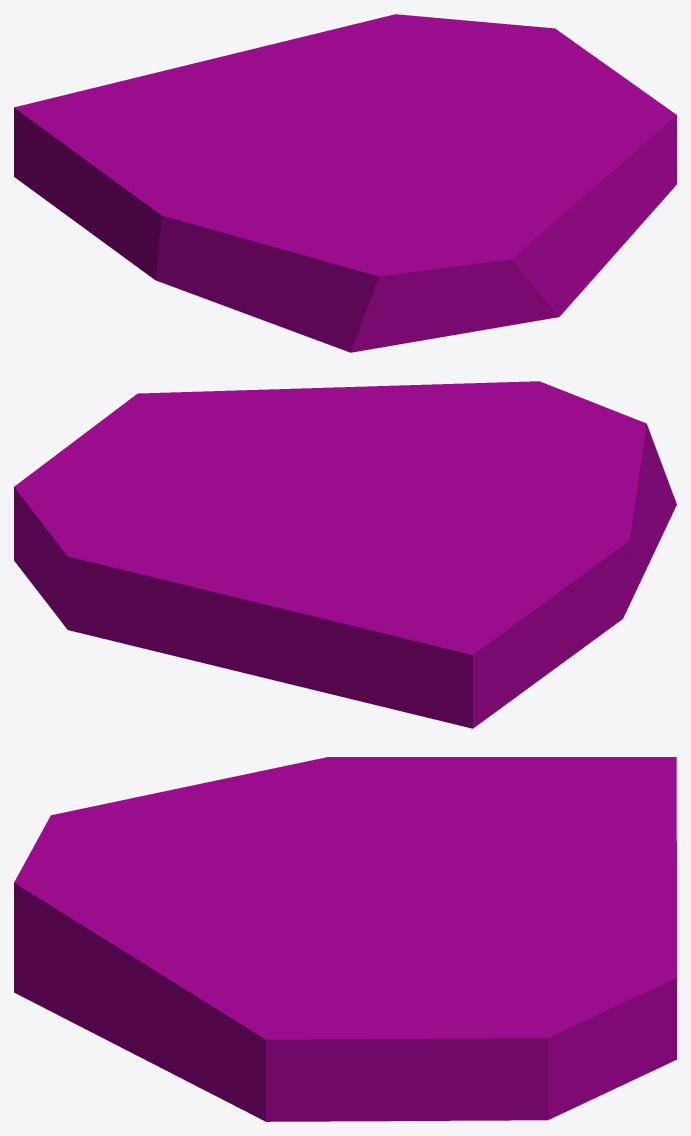
Rendered from Collider_Broken_Ceiling_003.fbx.
The picture shows the model from 3 angles, top to bottom: view 1: azimuth 30°, elevation 25°; view 2: azimuth 150°, elevation 25°; view 3: azimuth 270°, elevation 25°; orthographic projection. The views are drawn at different scales.
Visible parts, largest first — view 1: Collider_Broken_Ceiling_003; view 2: Collider_Broken_Ceiling_003; view 3: Collider_Broken_Ceiling_003.
Part boxes in pixels (box(x1,y1,x2,y2)): Collider_Broken_Ceiling_003: box(14, 14, 676, 352); Collider_Broken_Ceiling_003: box(14, 381, 676, 728); Collider_Broken_Ceiling_003: box(14, 757, 676, 1121).
Size of the model in its own units: 3.02 by 0.4093 by 2.99.
